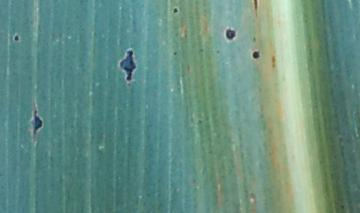tarspot: (116, 45, 139, 82), (31, 107, 45, 135), (224, 26, 236, 40), (251, 1, 260, 17), (11, 32, 22, 43), (251, 47, 259, 61), (269, 54, 276, 69), (172, 6, 179, 15), (171, 50, 178, 56), (251, 35, 256, 41)
